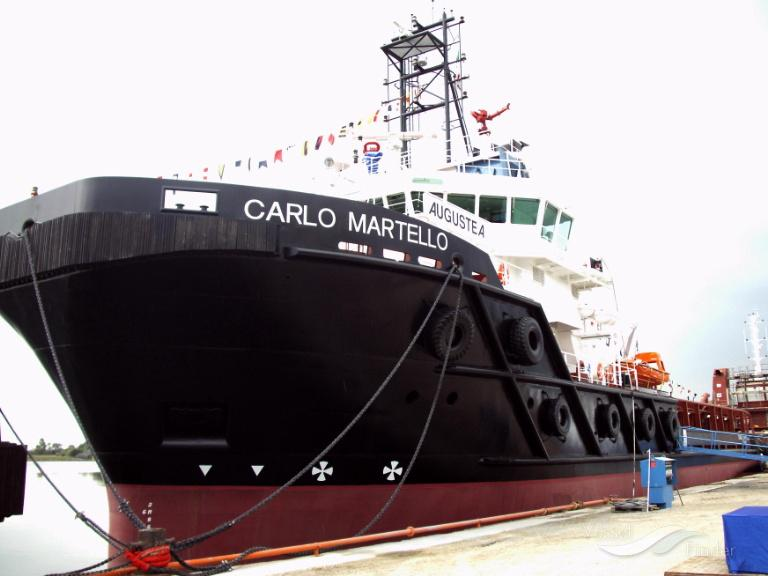OCR: (241, 191, 452, 255), (430, 194, 492, 239)
